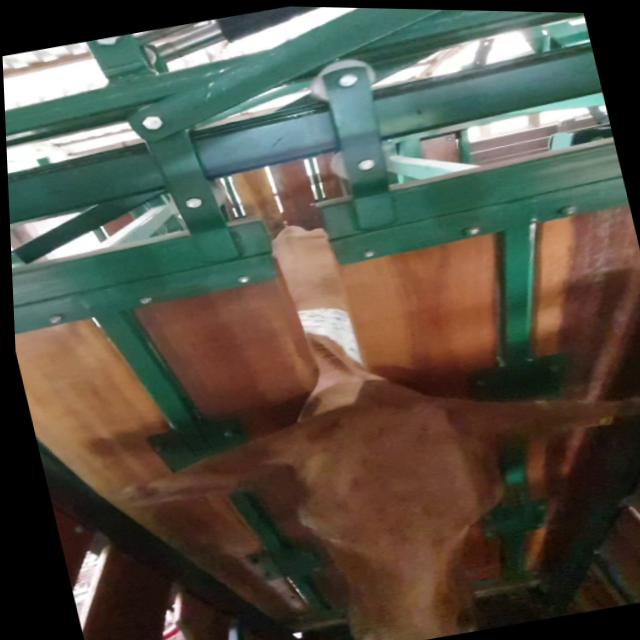cowFace: (275, 384, 535, 640)
